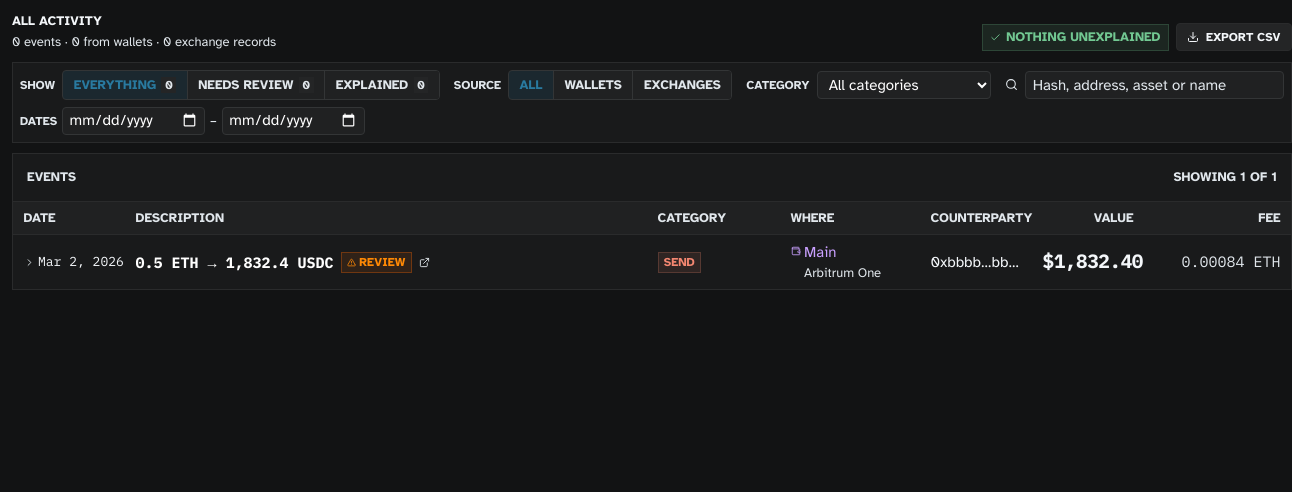
Test: CryptoLedger › saves a changed note with the category correction in one write, and says Saved
Click the text "0.5 ETH → 1,832.4 USDC" at (234, 262), box x1=136 y1=252 x2=334 y2=273
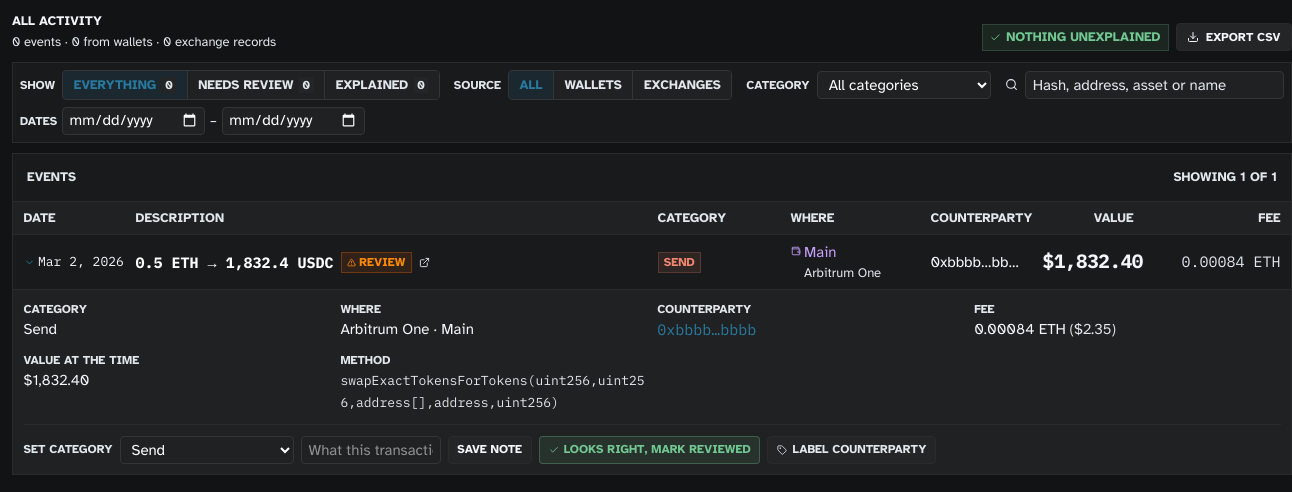
Select "Spend" in the dropdown labelled "Set category" at (206, 450), box x1=120 y1=436 x2=294 y2=464
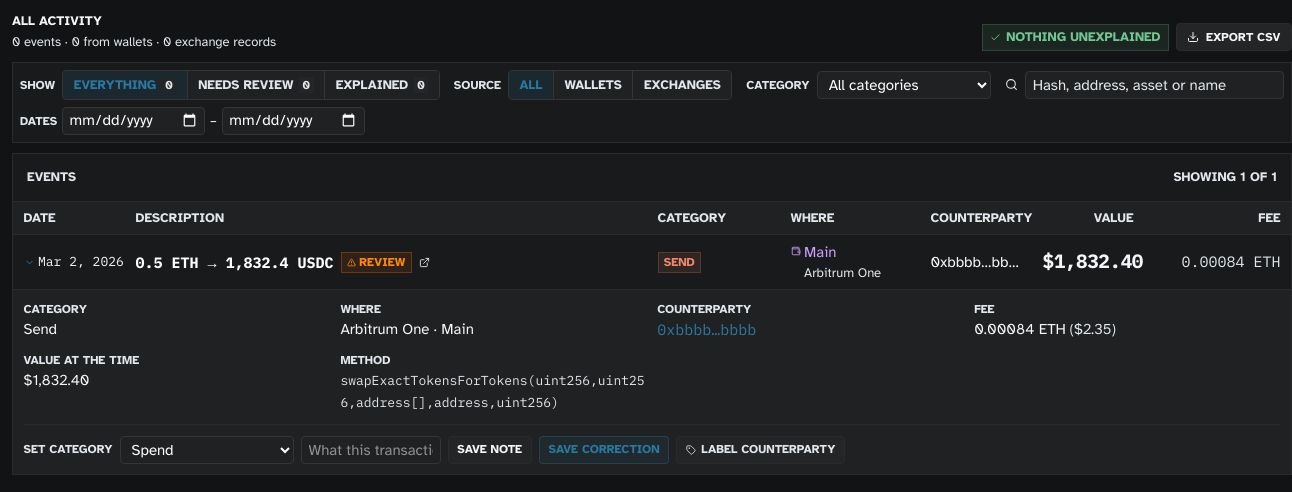
Type "Rent" into the field with placeholder "What this transaction did" at (370, 450), box x1=300 y1=436 x2=440 y2=464
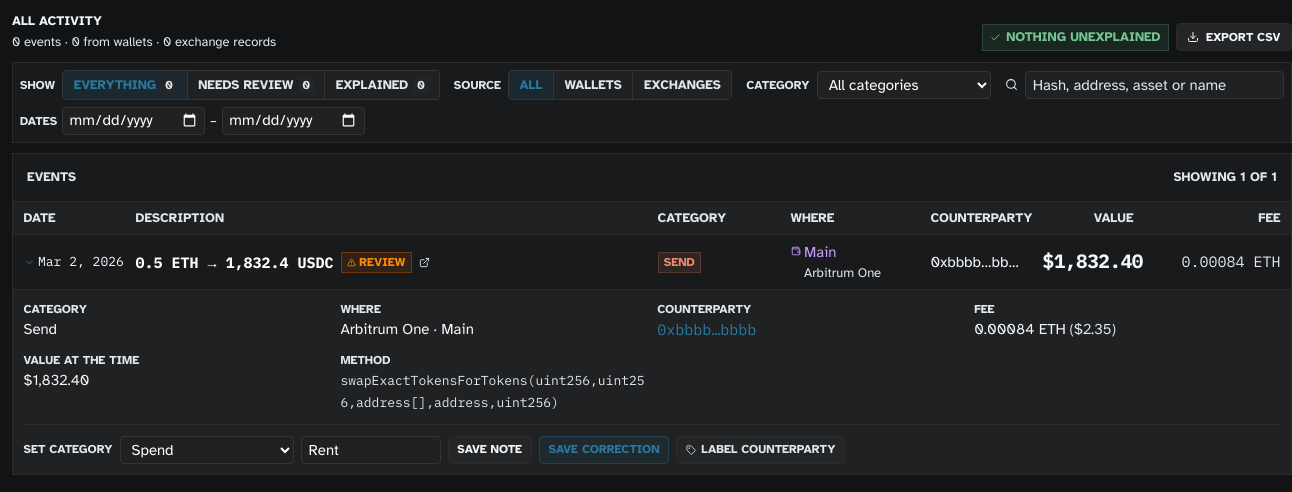
Click the button "Save correction" at (604, 450), box x1=539 y1=436 x2=669 y2=464
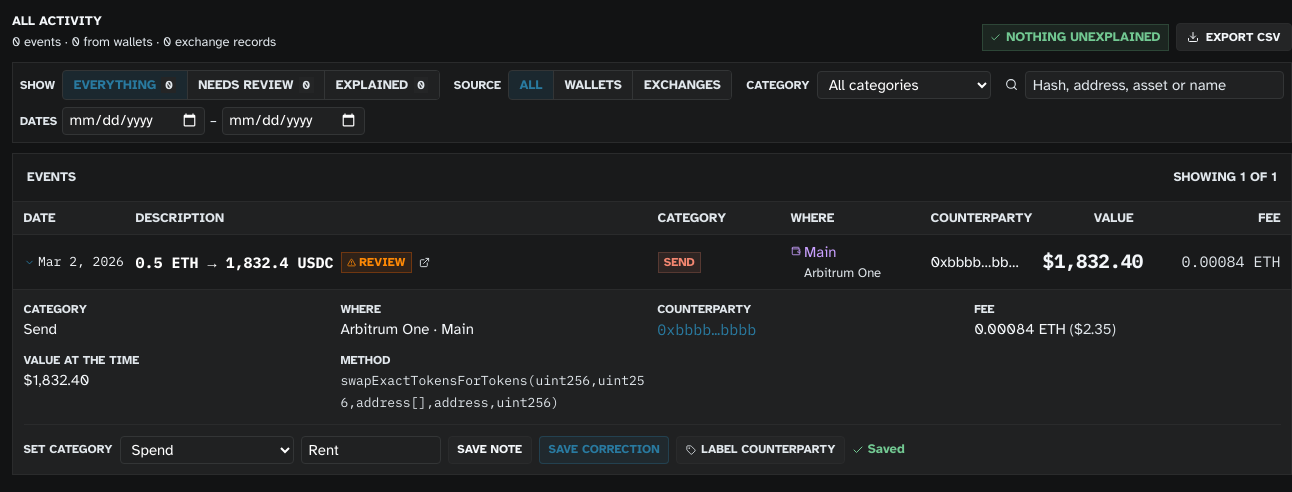
Now the text "Saved" is shown, box x1=852 y1=441 x2=905 y2=457
